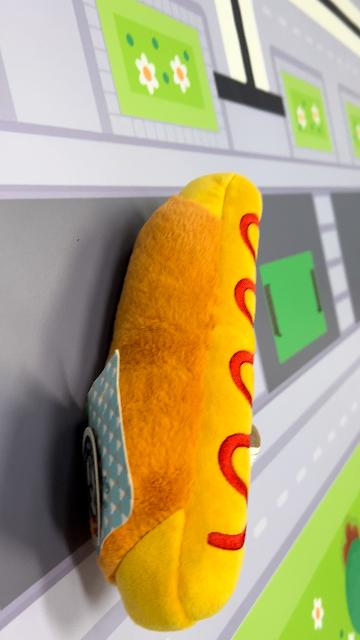hotdog: (82, 171, 266, 634)
